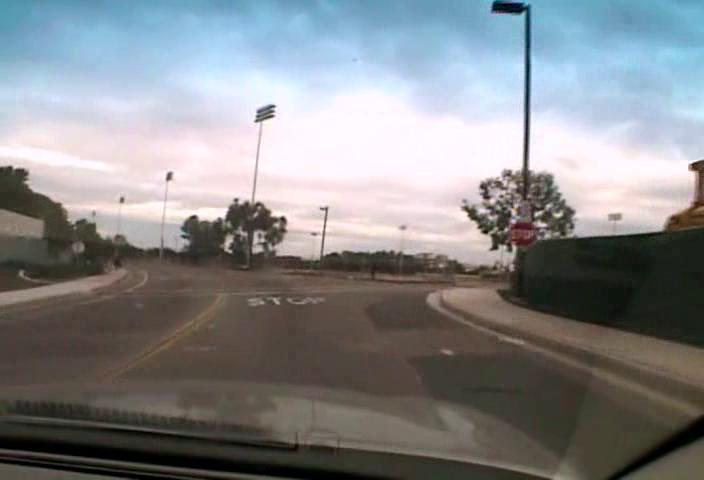stop: (507, 220, 539, 248)
